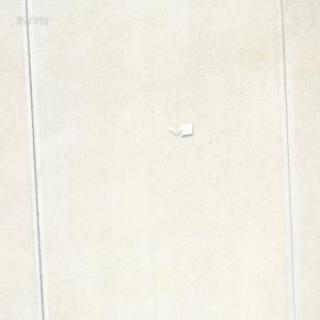LuggageTagtrack_idkeyframe: (168, 120, 192, 138)
